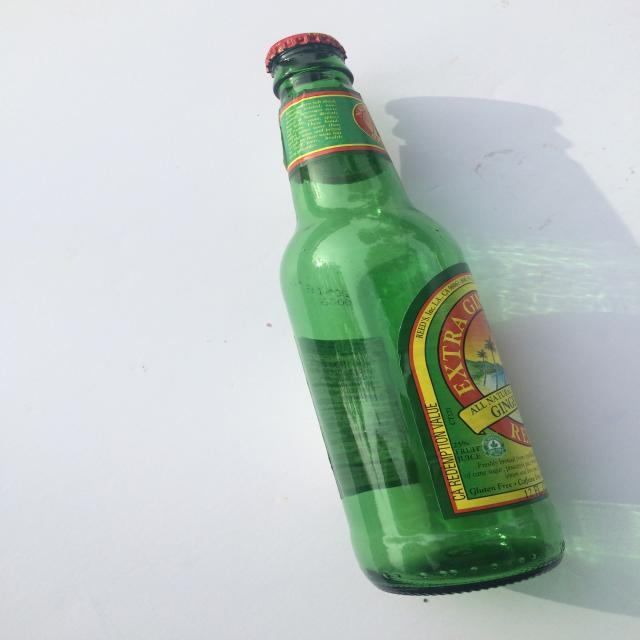glass: (262, 30, 568, 598)
